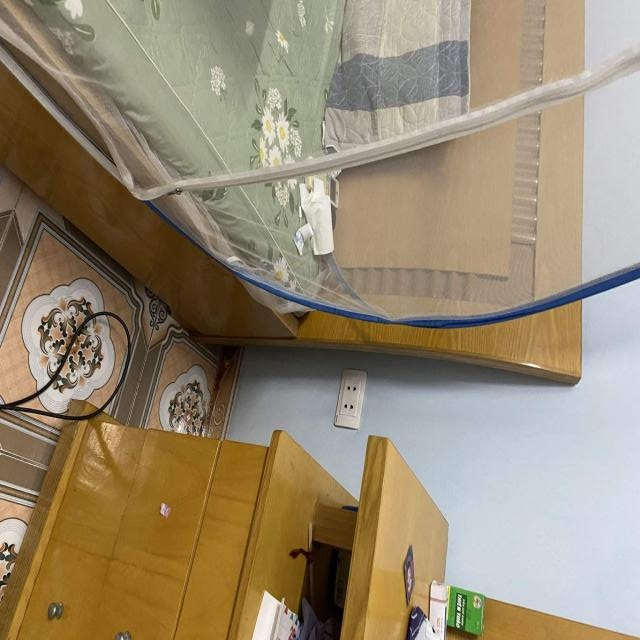outlet: (334, 368, 368, 429)
